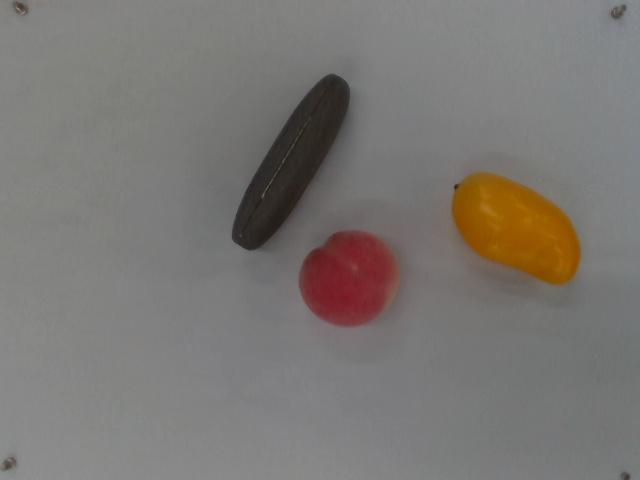glassescase: (230, 70, 354, 253)
mango: (452, 167, 585, 287)
peach: (297, 227, 403, 332)
